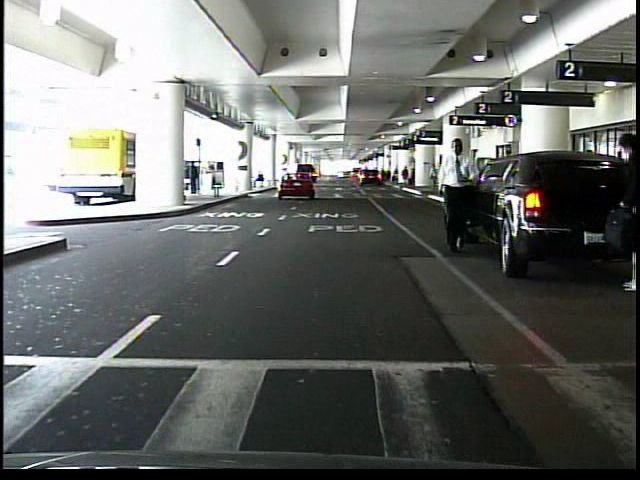person: (598, 135, 640, 288), (438, 134, 475, 254), (187, 159, 201, 196), (401, 166, 410, 187)
